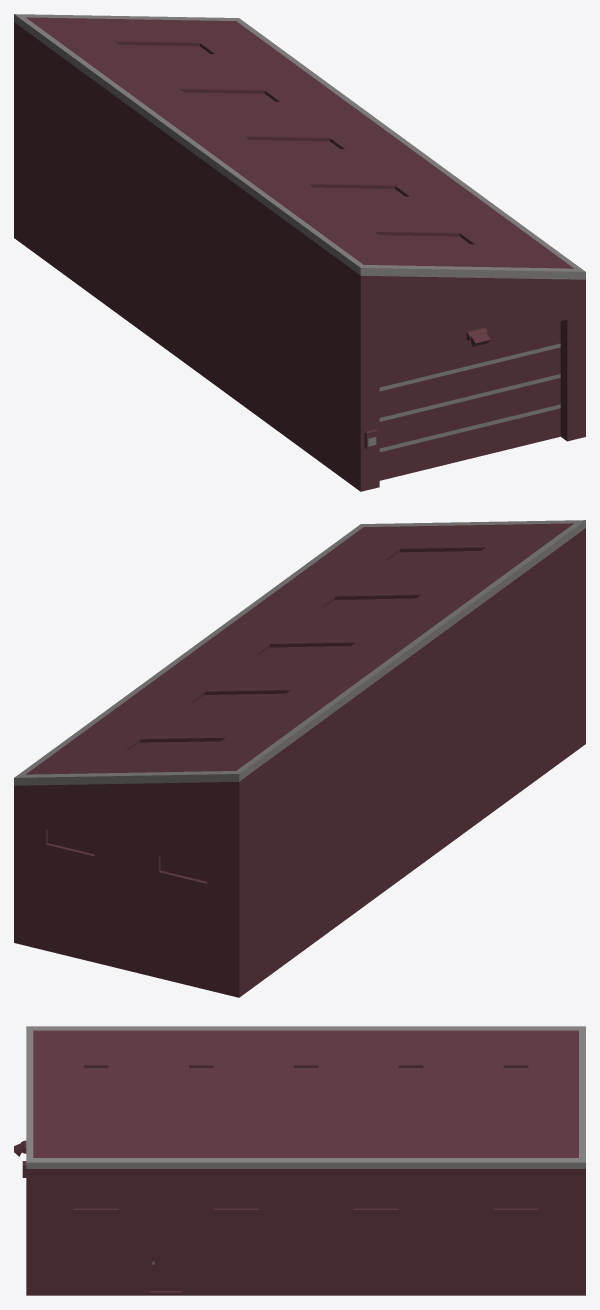
Rendered from industry-storage.fbx.
The picture shows the model from 3 angles, top to bottom: view 1: azimuth 30°, elevation 25°; view 2: azimuth 150°, elevation 25°; view 3: azimuth 270°, elevation 25°; orthographic projection. The views are drawn at different scales.
Visible parts, largest first — view 1: industry-storage; view 2: industry-storage; view 3: industry-storage.
Part boxes in pixels (bbox=[...]): industry-storage: bbox=[14, 14, 585, 491]; industry-storage: bbox=[14, 520, 585, 997]; industry-storage: bbox=[14, 1026, 585, 1295].
Bounding box in the file's own units: 6 × 5.7 × 16.35.
